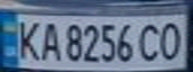2: (78, 20, 103, 63)
5: (100, 20, 121, 63)
6: (115, 20, 139, 63)
8: (60, 20, 84, 63)
A: (36, 18, 63, 62)
C: (136, 20, 166, 63)
K: (12, 17, 45, 62)
O: (157, 18, 187, 62)
